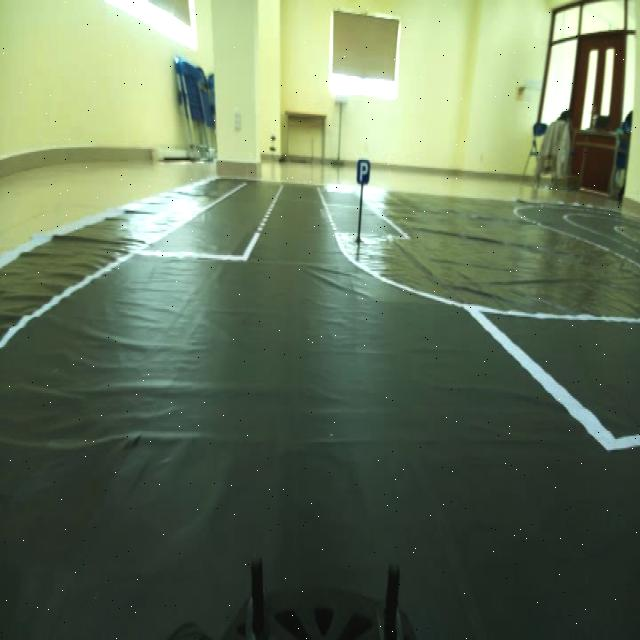parking: (351, 154, 381, 191)
